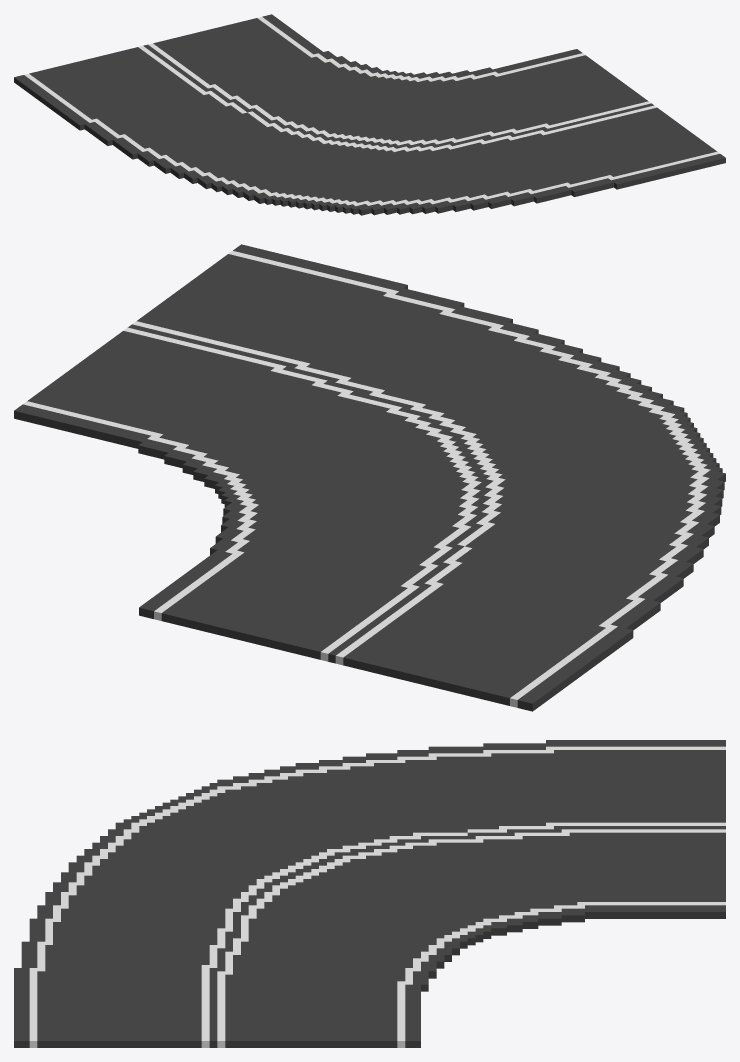
The model's file is first_map-1.obj.
3 views of the same model, one above another, from view 1: azimuth 30°, elevation 25°; view 2: azimuth 150°, elevation 25°; view 3: azimuth 270°, elevation 25° (orthographic). The views are drawn at different scales.
Bounding box in the file's own units: 9.1 × 0.1 × 9.1.
1 material, 1 textured.
